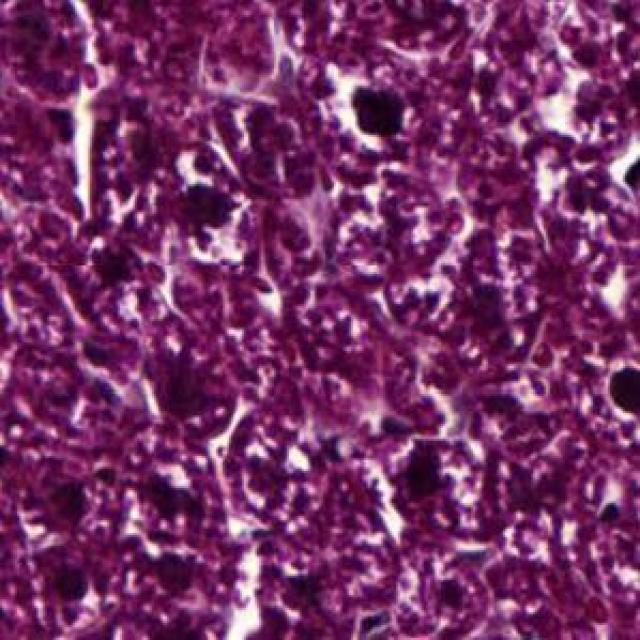inflammation: (516, 120, 629, 233), (334, 62, 430, 163), (165, 175, 261, 272), (385, 426, 471, 520)
